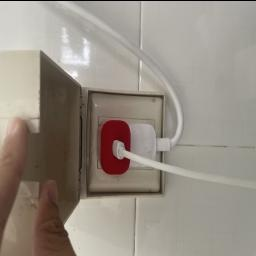outlet: (84, 71, 175, 203)
